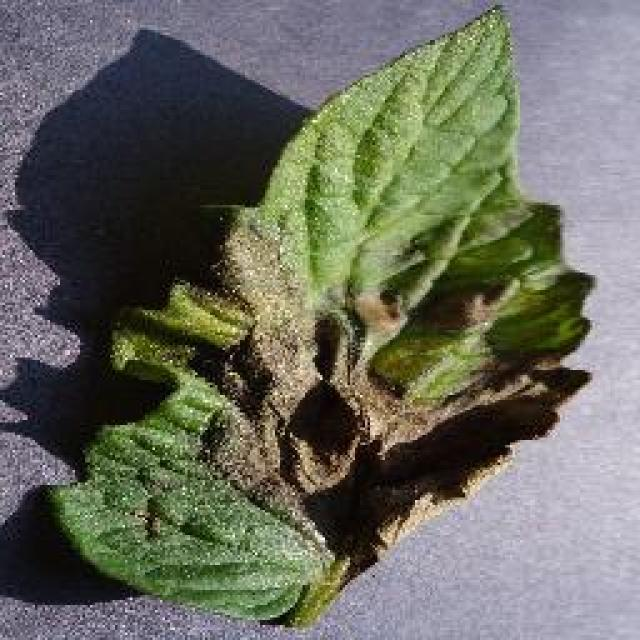Tomato___Late_blight: (37, 9, 599, 632)
